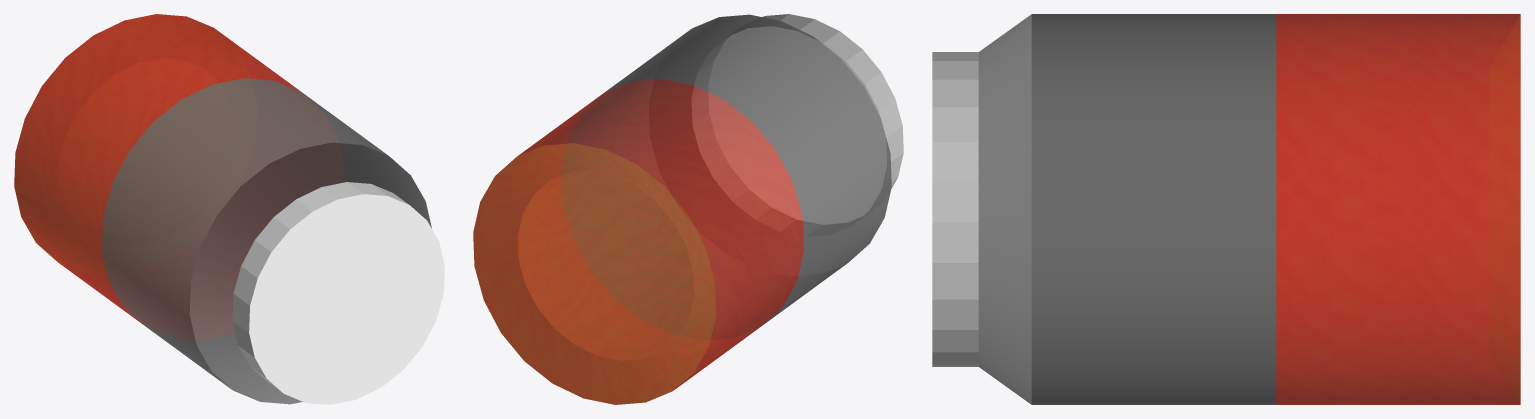
The model's file is model_align.obj.
3 renders of one model, left to right at view 1: azimuth 30°, elevation 25°; view 2: azimuth 150°, elevation 25°; view 3: azimuth 270°, elevation 25°, orthographic. The views are drawn at different scales.
Visible parts, largest first — view 1: mesh1_mesh1-geometry; view 2: mesh1_mesh1-geometry; view 3: mesh1_mesh1-geometry.
Boxes of the visible parts, x1,y1,x2,y2 form: mesh1_mesh1-geometry: (14,14,444,404); mesh1_mesh1-geometry: (473,14,903,404); mesh1_mesh1-geometry: (932,14,1520,404).
Size of the model in its own units: 0.1352 by 0.1352 by 0.2035.
4 materials, 1 textured.
